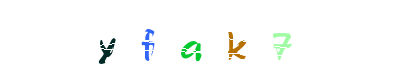7: (202, 0, 282, 80)
A: (167, 0, 247, 80)
F: (110, 0, 190, 80)
K: (195, 0, 275, 80)
Y: (108, 0, 188, 80)
